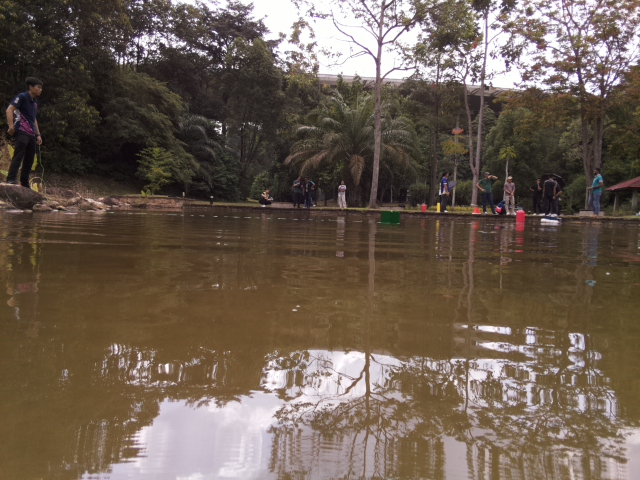obstacle: (379, 210, 402, 226)
